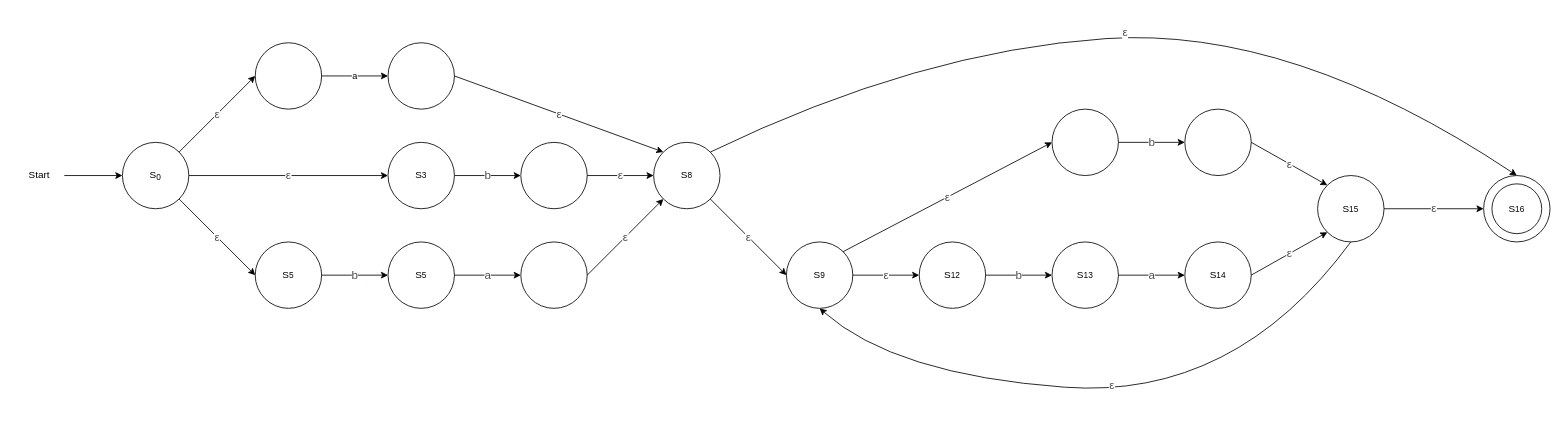
This 1565x428 diagram has some shape labels left out. Each missing label, with the centre of its shape:
"S 1" belongs at point (288, 75).
"S 10" belongs at point (1084, 142).
"S 11" belongs at point (1217, 142).
"S 2" belongs at point (420, 75).
"S 4" belongs at point (553, 175).
"S 7" belongs at point (553, 274).
